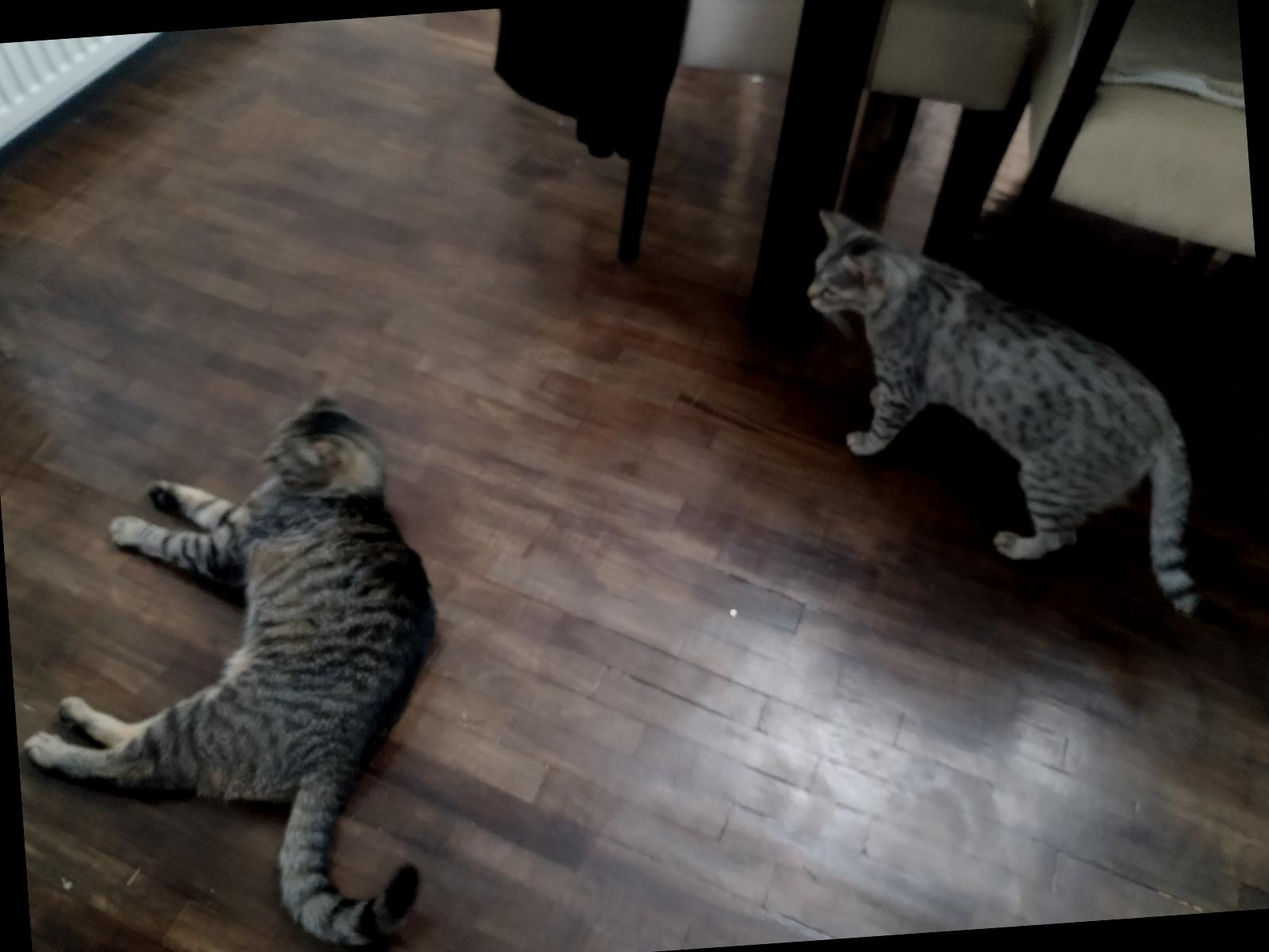macka: (2, 366, 462, 952), (800, 178, 1244, 663)
